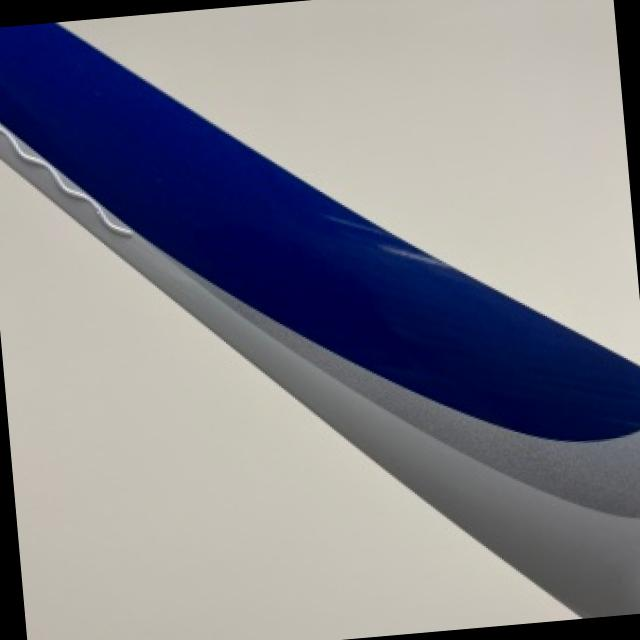healthy: (0, 161, 560, 640)
